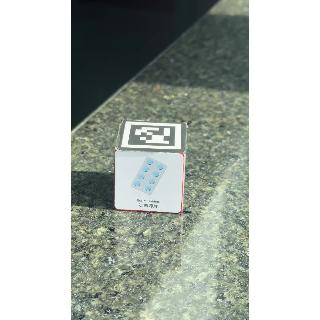Tablet: (115, 148, 187, 217)
